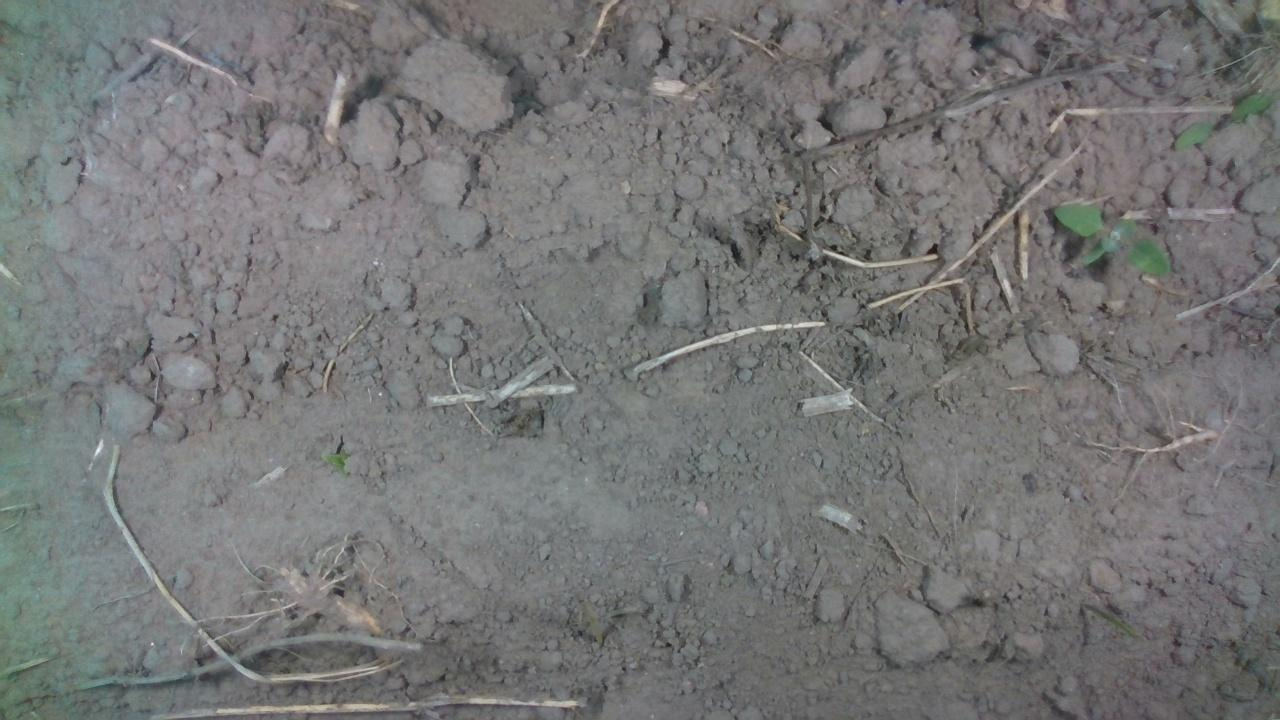weed: (1050, 198, 1172, 278), (1170, 88, 1277, 149)
